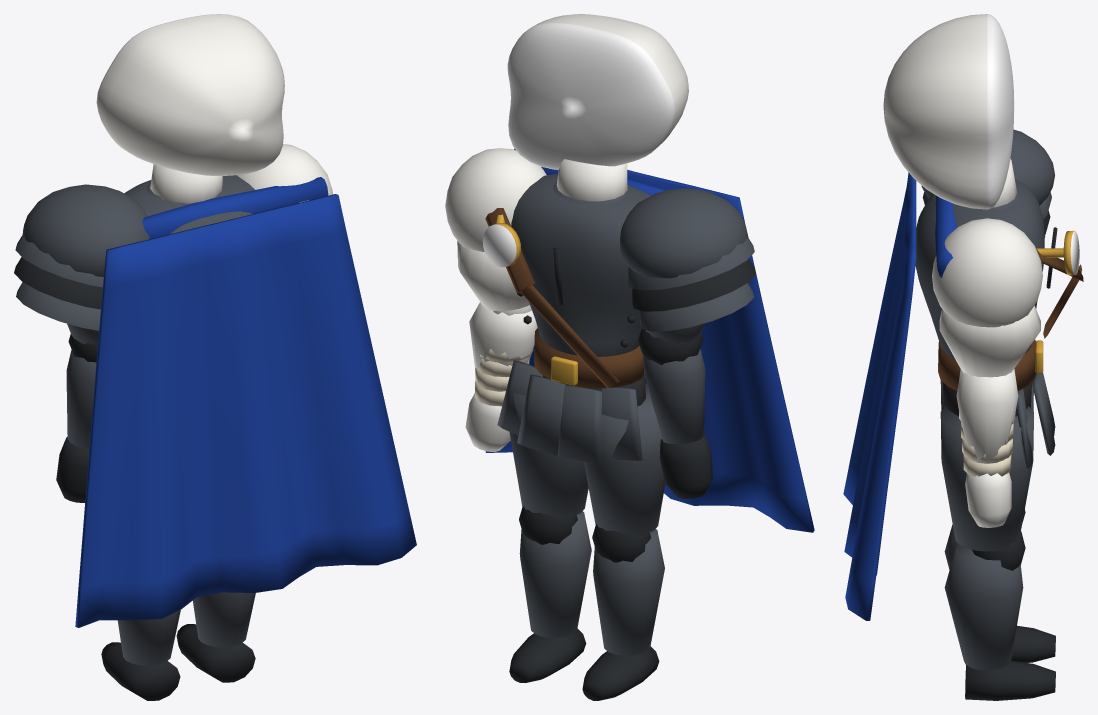
The model's file is hero-knight.glb.
3 renders of one model, left to right at view 1: azimuth 30°, elevation 25°; view 2: azimuth 150°, elevation 25°; view 3: azimuth 270°, elevation 25°, orthographic. The views are drawn at different scales.
Parts seen in each view (by area): view 1: chest__cape, headPivot__head, armL__pauldome, chest__capecollar, kneeR__greave, kneeL__greave, ankleL__sabaton, ankleR__sabaton, elbowL__vambrace, armR__deltoid, neckPivot__neck, armL__pauldron1 (+4 smaller); view 2: headPivot__head, chest__cape, chest__cuirass, armL__pauldome, thighL__cuisse, kneeR__greave, kneeL__greave, armR__deltoid, thighR__cuisse, elbowL__vambrace, hips__tasset1, elbowR__forearm (+21 smaller); view 3: headPivot__head, chest__cape, armR__deltoid, kneeR__greave, thighR__cuisse, chest__cuirass, armR__bicep, elbowR__forearm, ankleR__sabaton, wristR__fist, armL__pauldome, spine__belt (+11 smaller).
Boxes of the visible parts, box(x1,y1,x2,y2) form: chest__cape: box(75, 194, 416, 627); headPivot__head: box(96, 14, 284, 175); armL__pauldome: box(22, 184, 149, 276); chest__capecollar: box(142, 177, 328, 238); kneeR__greave: box(192, 592, 255, 647); kneeL__greave: box(117, 609, 180, 665); ankleL__sabaton: box(101, 642, 180, 700); ankleR__sabaton: box(176, 624, 255, 682); elbowL__vambrace: box(66, 350, 96, 448); armR__deltoid: box(237, 144, 332, 202); neckPivot__neck: box(150, 164, 222, 203); armL__pauldron1: box(14, 257, 102, 309); headPivot__head: box(507, 14, 688, 169); chest__cape: box(485, 148, 814, 532); chest__cuirass: box(511, 174, 650, 356); armL__pauldome: box(620, 188, 748, 278); thighL__cuisse: box(583, 383, 665, 535); kneeR__greave: box(519, 511, 591, 637); kneeL__greave: box(593, 529, 664, 655); armR__deltoid: box(445, 148, 546, 251); thighR__cuisse: box(509, 366, 588, 518); elbowL__vambrace: box(643, 348, 705, 444); hips__tasset1: box(557, 385, 601, 463); elbowR__forearm: box(469, 302, 537, 377); headPivot__head: box(883, 14, 1014, 209); chest__cape: box(843, 172, 916, 620); armR__deltoid: box(932, 218, 1042, 327); kneeR__greave: box(944, 544, 1023, 670); thighR__cuisse: box(940, 406, 1033, 551); chest__cuirass: box(915, 179, 1044, 358); armR__bicep: box(939, 305, 1040, 377); elbowR__forearm: box(956, 369, 1018, 463); ankleR__sabaton: box(965, 660, 1055, 700); wristR__fist: box(965, 473, 1011, 527); armL__pauldome: box(921, 129, 1054, 205); spine__belt: box(938, 339, 1036, 390).
Bounding box in the file's own units: 1.07 × 1.99 × 0.6701.
